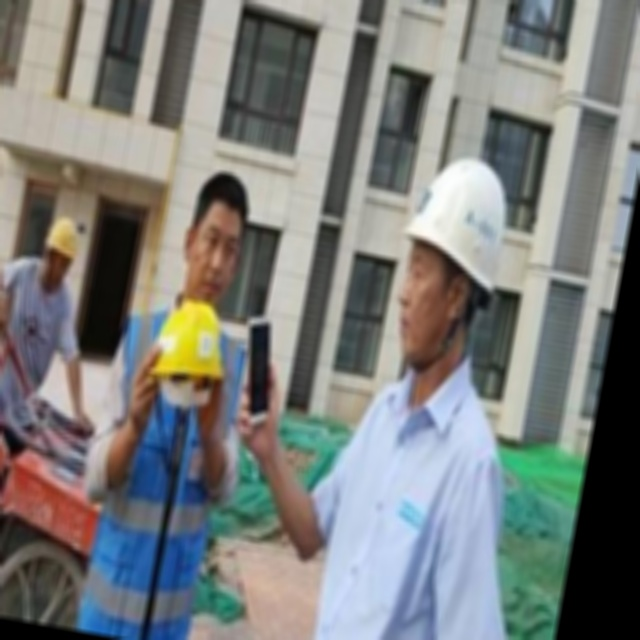Con_Casco: (384, 151, 518, 382)
Sin_Casco_Mascarrilla: (179, 169, 257, 307)
